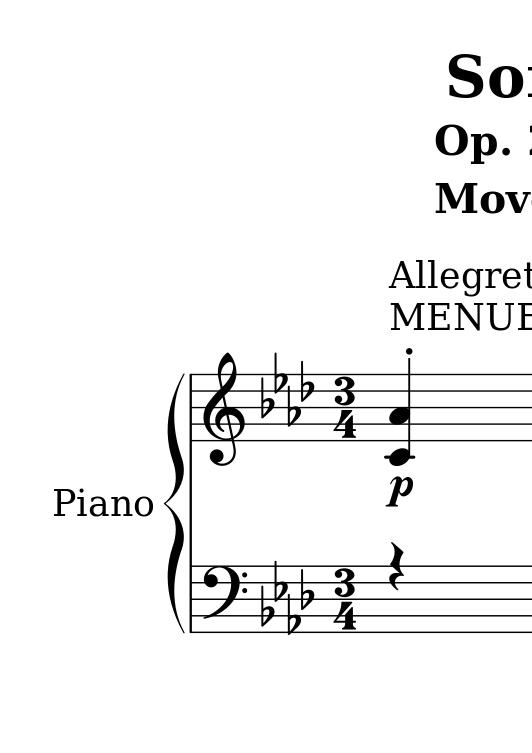3: (331, 373, 357, 407), (332, 565, 357, 598)
4: (331, 596, 360, 632), (331, 406, 359, 440)
4_-2_3: (385, 355, 416, 467)
A_F: (259, 558, 314, 633), (258, 353, 313, 426)
Brace: (163, 373, 185, 635)
Fclef: (201, 563, 248, 634)
Gclef: (203, 351, 247, 467)
Pno: (51, 484, 154, 519)
Rests4: (387, 540, 405, 592)
Single_barline: (185, 373, 201, 442), (187, 567, 198, 632)
TimeSig: (332, 375, 359, 440), (331, 565, 356, 633)
p: (385, 473, 417, 510)
